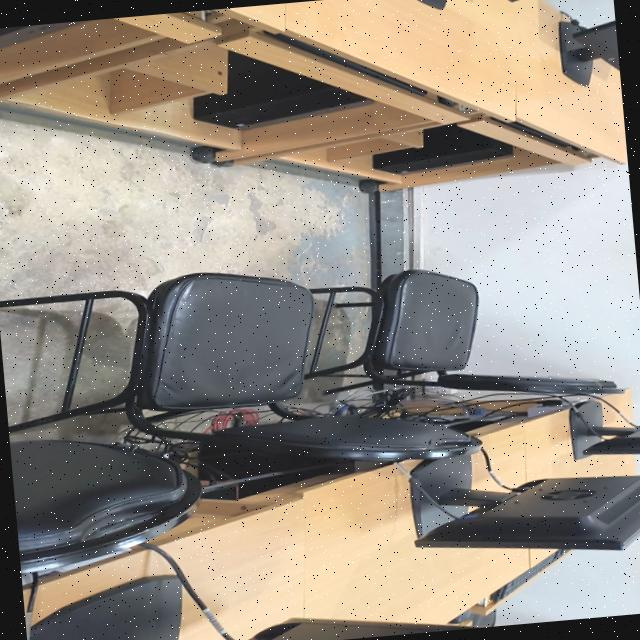Chair: (0, 271, 481, 460), (305, 268, 622, 393), (9, 438, 202, 575)
Cpu: (193, 50, 369, 127), (374, 124, 512, 172), (0, 19, 86, 47)
Keyboard: (489, 548, 573, 602)
Monitor: (409, 453, 640, 548), (30, 573, 182, 640), (242, 617, 491, 640), (570, 399, 640, 457), (559, 19, 619, 84), (420, 0, 446, 8)
